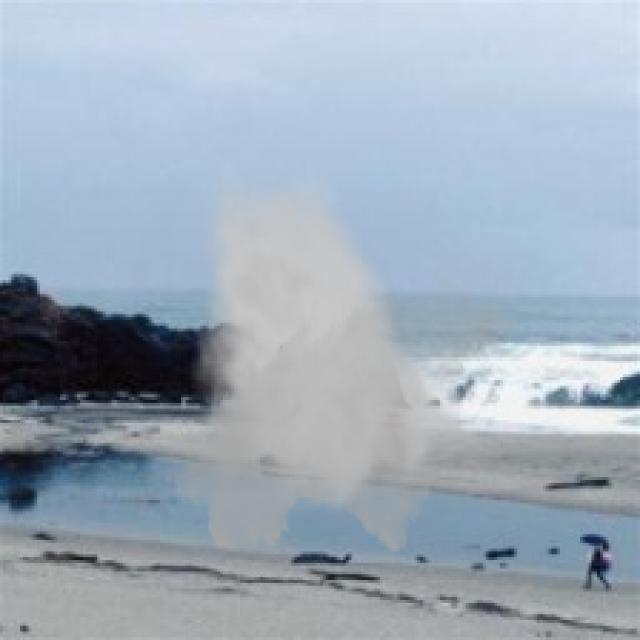Smoke: (162, 160, 518, 563)
